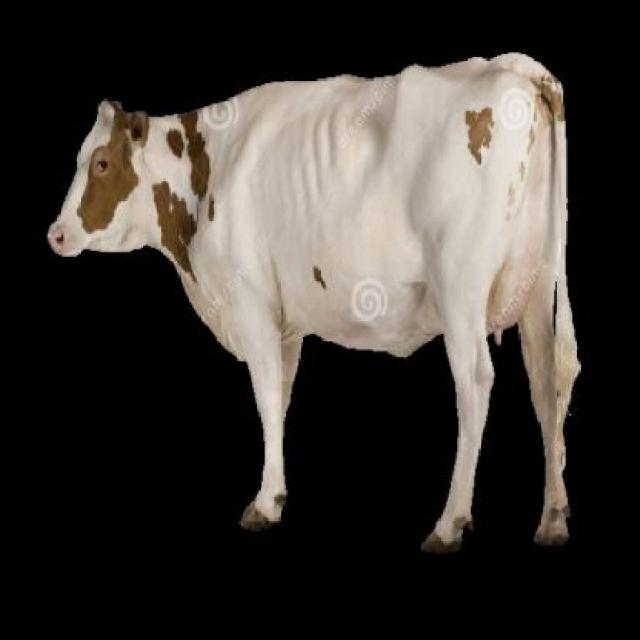Cow: (51, 52, 580, 554)
